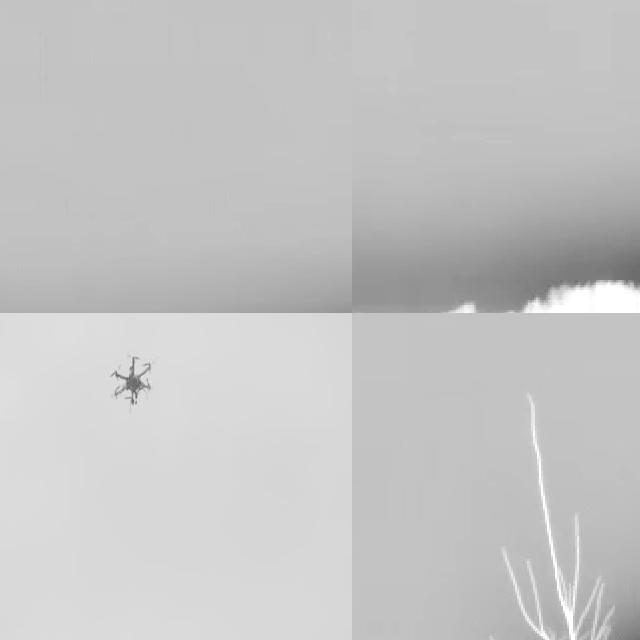drone: (108, 350, 157, 416)
